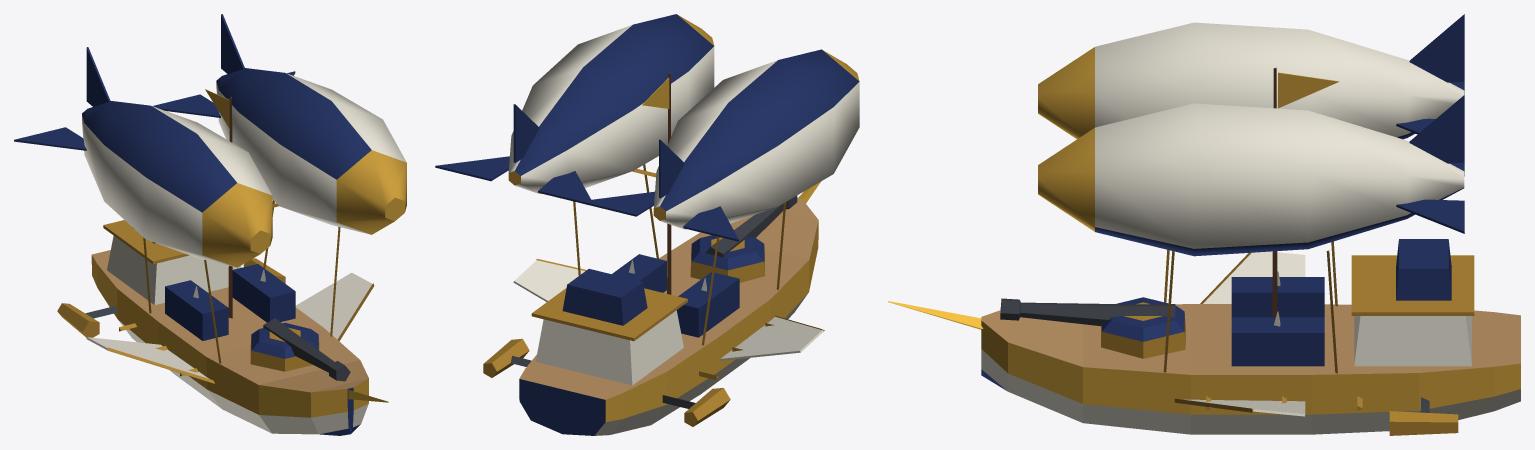
The model's file is SM_Ship_ArmadaFrigate_LQ.glb.
3 renders of one model, left to right at view 1: azimuth 30°, elevation 25°; view 2: azimuth 150°, elevation 25°; view 3: azimuth 270°, elevation 25°, orthographic. The views are drawn at different scales.
Parts seen in each view (by area): view 1: SM_Ship_ArmadaFrigate_LQ; view 2: SM_Ship_ArmadaFrigate_LQ; view 3: SM_Ship_ArmadaFrigate_LQ.
Boxes of the visible parts, x1=… form: SM_Ship_ArmadaFrigate_LQ: x1=14, y1=14, x2=406, y2=435; SM_Ship_ArmadaFrigate_LQ: x1=435, y1=14, x2=859, y2=435; SM_Ship_ArmadaFrigate_LQ: x1=888, y1=14, x2=1520, y2=435.
Bounding box in the file's own units: 16.32 × 16.4 × 25.81.
1 material, 1 textured.
